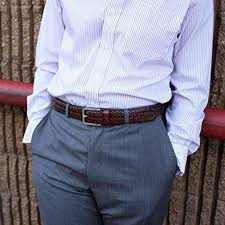F_belt: (45, 93, 176, 132)
F_shirt: (16, 1, 214, 142)
